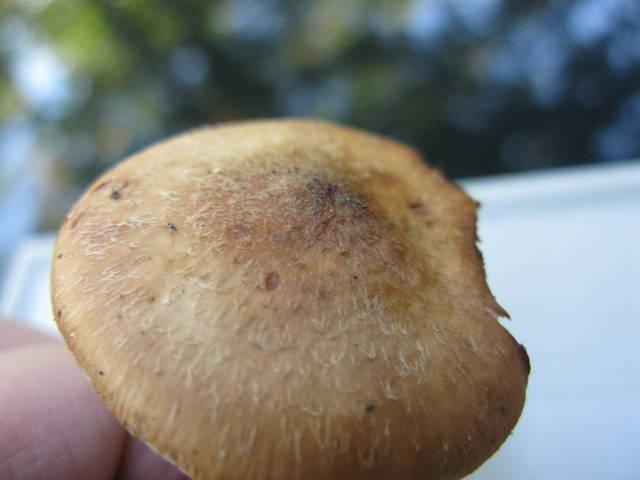Edible Mushroom: (48, 115, 531, 479)
